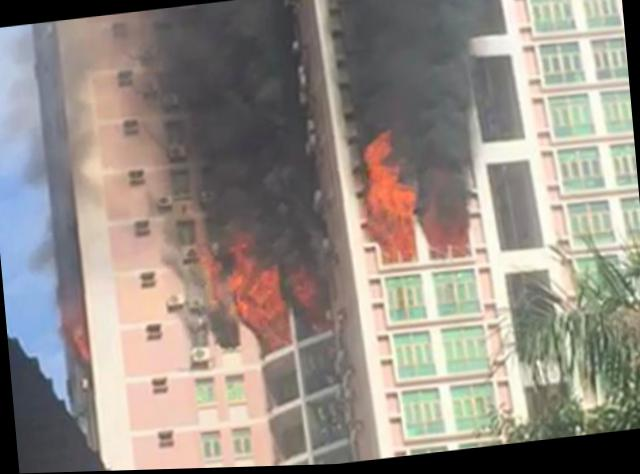fire: (362, 139, 414, 265), (231, 270, 280, 319), (253, 302, 291, 348)
